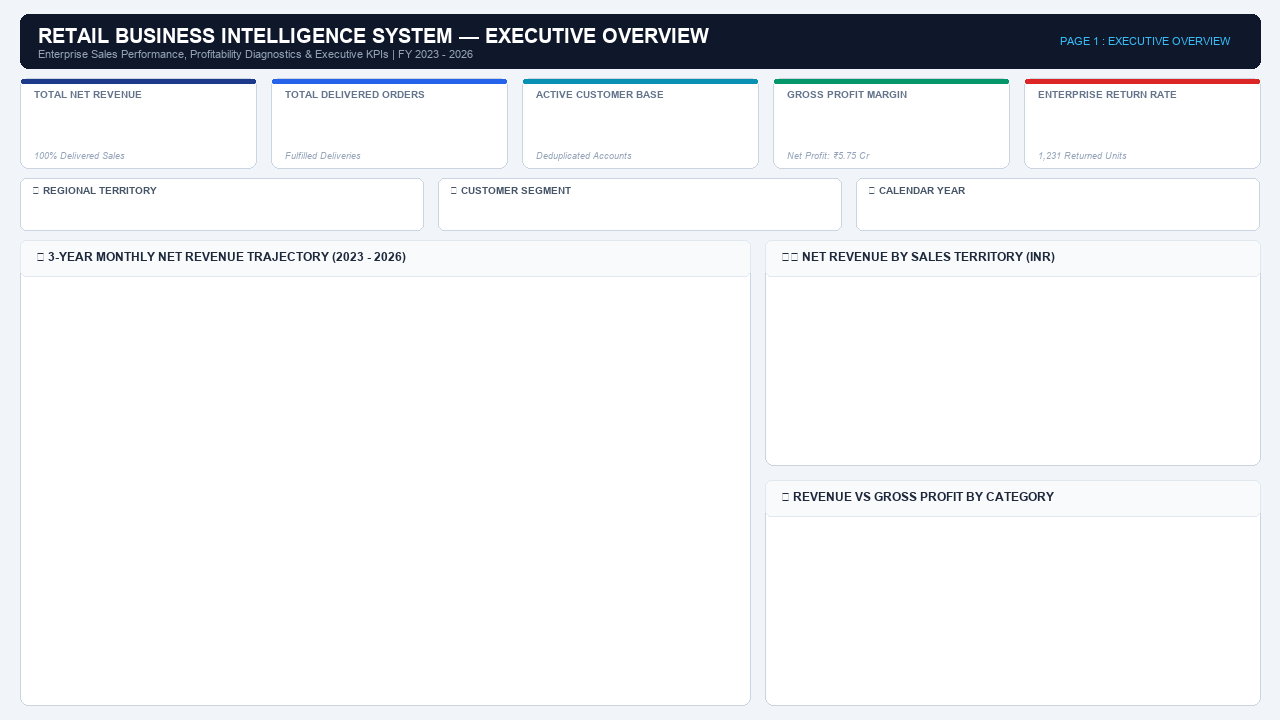

What the dashboard file says about the page in this screenshot:
{"tool":"powerbi","page":{"name":"Executive Overview","canvas":[1920,1080],"ordinal":0},"visuals":[{"type":"shape","box":[5.4,23.5,1911,81.4],"z":0},{"type":"textbox","box":[10.9,50.7,1909.2,54.3],"z":1000},{"type":"cardVisual","title":"TOTAL NET REVENUE","fields":{"Data":["_Measures.Total Net Revenue"]},"box":[32.6,161.1,354.7,88.7],"z":2000},{"type":"cardVisual","title":"TOTAL DELIVERED ORDERS","fields":{"Data":["_Measures.Total Delivered Orders"]},"box":[409,161.1,351.1,90.5],"z":3000},{"type":"cardVisual","title":"ACTIVE CUSTOMERS","fields":{"Data":["_Measures.Active Customers"]},"box":[783.6,161.1,354.7,90.5],"z":4000},{"type":"cardVisual","title":"GROSS PROFIT MARGIN","fields":{"Data":["_Measures.Gorss Margin %"]},"box":[1160,161.1,354.7,90.5],"z":5000},{"type":"cardVisual","title":"RETURN RATE","fields":{"Data":["_Measures.Return Rate %"]},"box":[1536.4,161.1,354.7,90.5],"z":6000},{"type":"slicer","fields":{"Values":["Dim_Region.region_name"]},"box":[32.6,300.4,606.2,45.2],"z":7000},{"type":"slicer","fields":{"Values":["Dim_Customers.Segment.1"]},"box":[638.8,300.4,622.5,45.2],"z":8000},{"type":"slicer","fields":{"Values":["Dim_Date.Year"]},"box":[1286.7,300.4,602.6,45.2],"z":9000},{"type":"lineChart","title":"Monthly Net Revenue Trend (2023 - 2026)","fields":{"Category":["Dim_Date.YearMonth"],"Y":["_Measures.Total Net Revenue"]},"box":[32.6,414.4,1093,647.9],"z":10000},{"type":"clusteredBarChart","title":"Net Revenue by Sales Territory (INR)","fields":{"Category":["Dim_Region.region_name"],"Y":["_Measures.Total Net Revenue"]},"box":[1138.3,414.4,751,280.5],"z":11000},{"type":"clusteredColumnChart","title":"Revenue vs Gross Profit by Category","fields":{"Category":["Dim_Products.category"],"Y":["_Measures.Total Net Revenue","_Measures.Gross Profit"]},"box":[1138.3,774.5,751,287.7],"z":12000}]}

Visuals, with their boxes in screenshot pixels (x1, y1, x2, y2), scaled from the page's 1920x1080 canvas onto the 1280x720 screenshot:
shape: (4,16,1278,70)
textbox: (7,34,1279,70)
"TOTAL NET REVENUE" cardVisual: (22,107,258,167)
"TOTAL DELIVERED ORDERS" cardVisual: (273,107,507,168)
"ACTIVE CUSTOMERS" cardVisual: (522,107,759,168)
"GROSS PROFIT MARGIN" cardVisual: (773,107,1010,168)
"RETURN RATE" cardVisual: (1024,107,1261,168)
slicer - Dim_Region.region_name: (22,200,426,230)
slicer - Dim_Customers.Segment.1: (426,200,841,230)
slicer - Dim_Date.Year: (858,200,1260,230)
"Monthly Net Revenue Trend (2023 - 2026)" lineChart: (22,276,750,708)
"Net Revenue by Sales Territory (INR)" clusteredBarChart: (759,276,1260,463)
"Revenue vs Gross Profit by Category" clusteredColumnChart: (759,516,1260,708)
